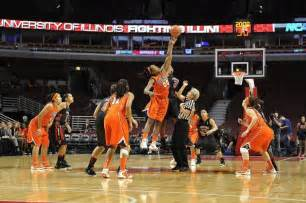basketball: (171, 26, 180, 36)
